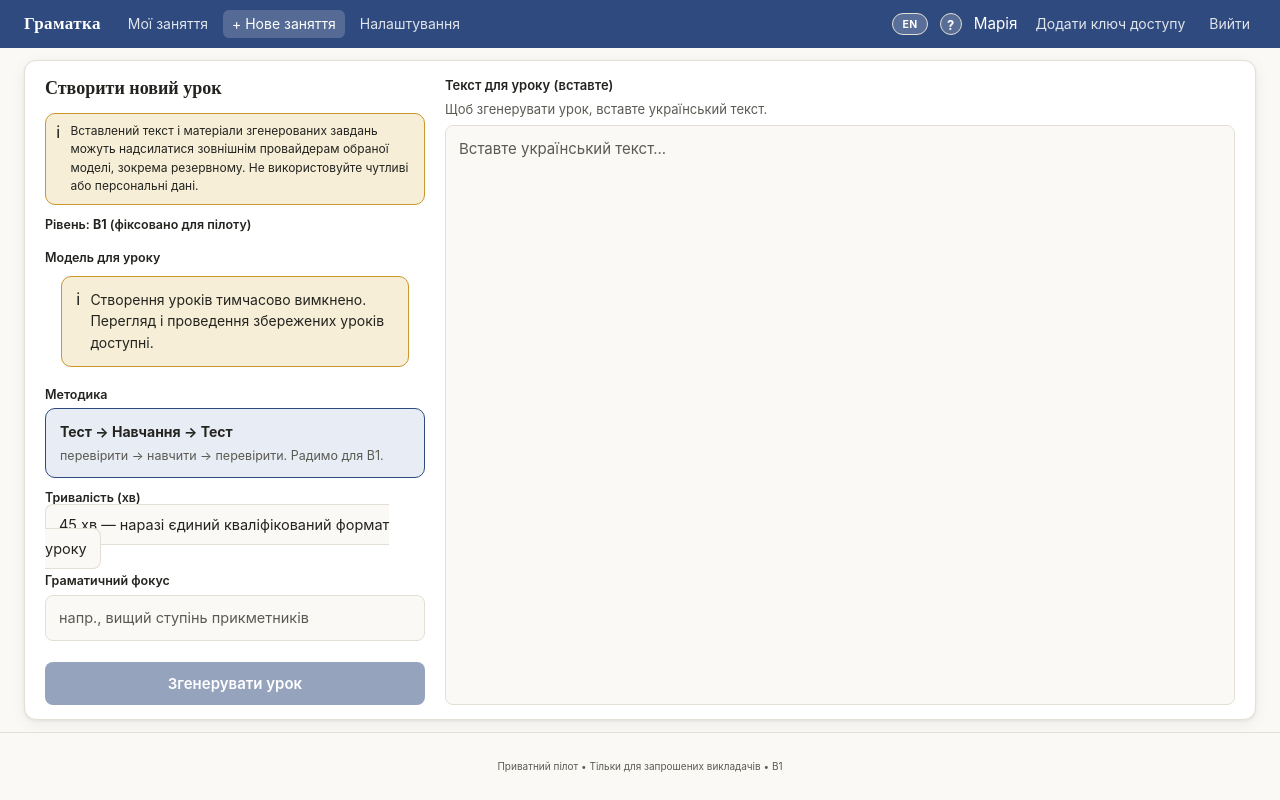
Test case: teacher lesson creation and list chrome › keeps the lesson library available when an operator pauses generation (#44)
Expected: the message with test id "no-qualified-models" shows "Створення уроків тимчасово вимкнено", [90, 291, 384, 351]
Expected: the button "Згенерувати урок" is disabled, [45, 662, 425, 705]
Click the button "Мої заняття" at (168, 24), box [119, 10, 217, 38]
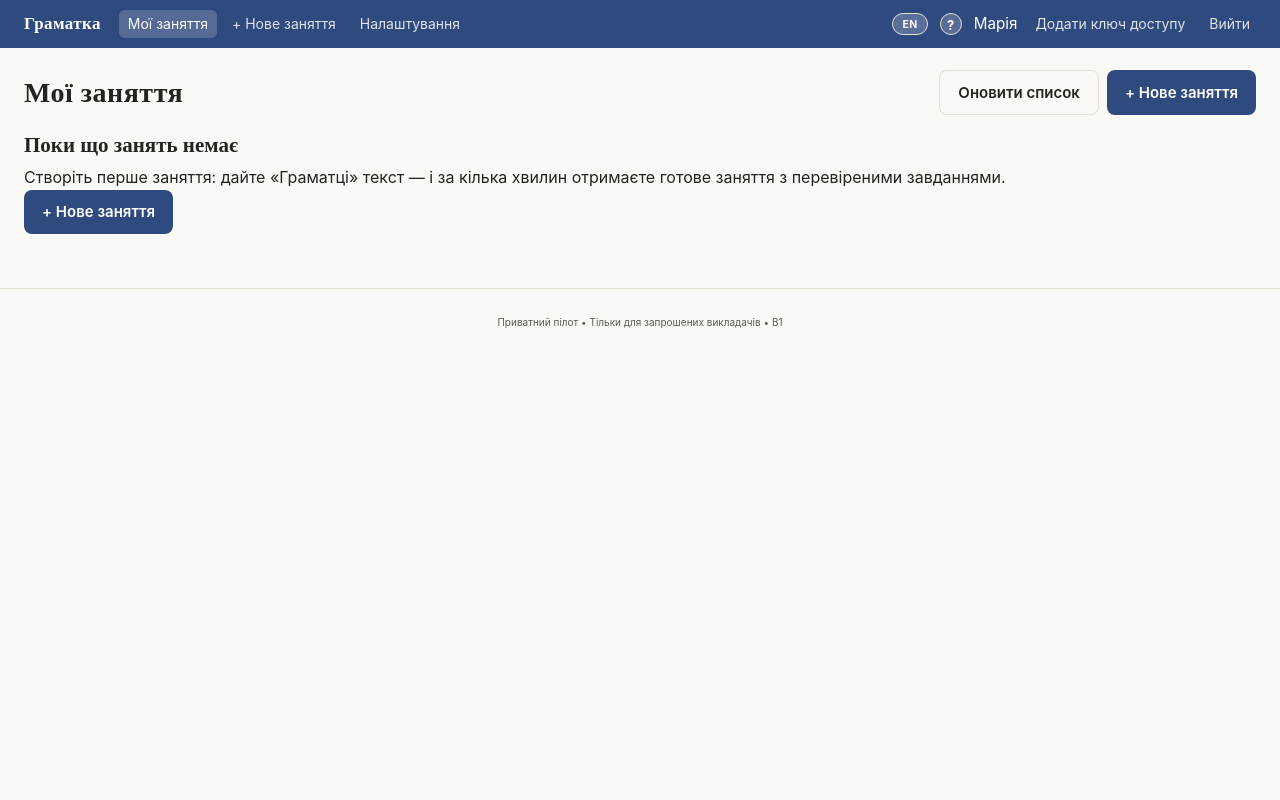
Expected: the heading "Мої заняття" is shown, [24, 71, 183, 114]
